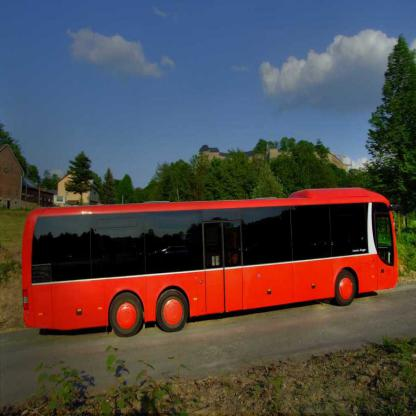Bus: (20, 186, 404, 336)
